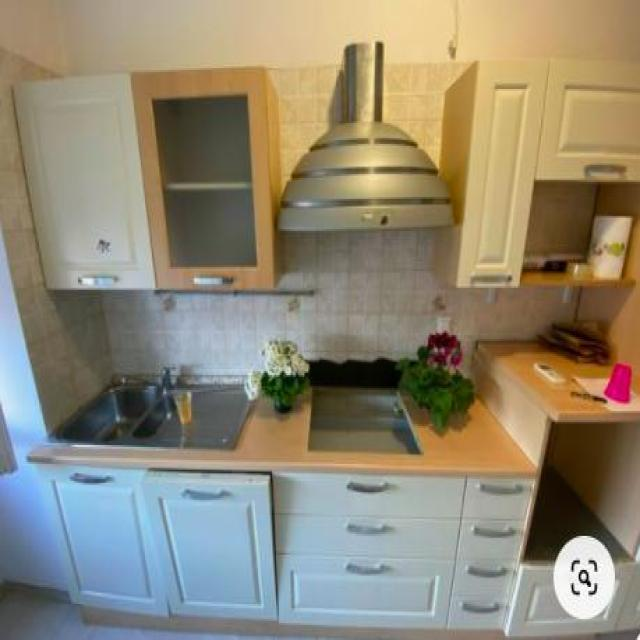dishwasher: (141, 462, 277, 627)
